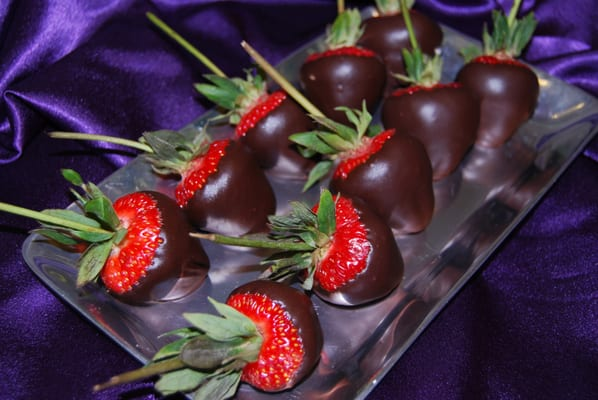sushi: (29, 9, 595, 392)
